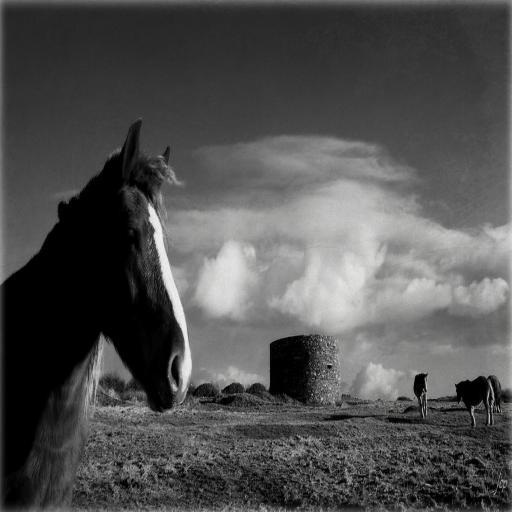Horse: (0, 118, 194, 512), (454, 373, 495, 431), (412, 370, 429, 422), (486, 375, 504, 415)
